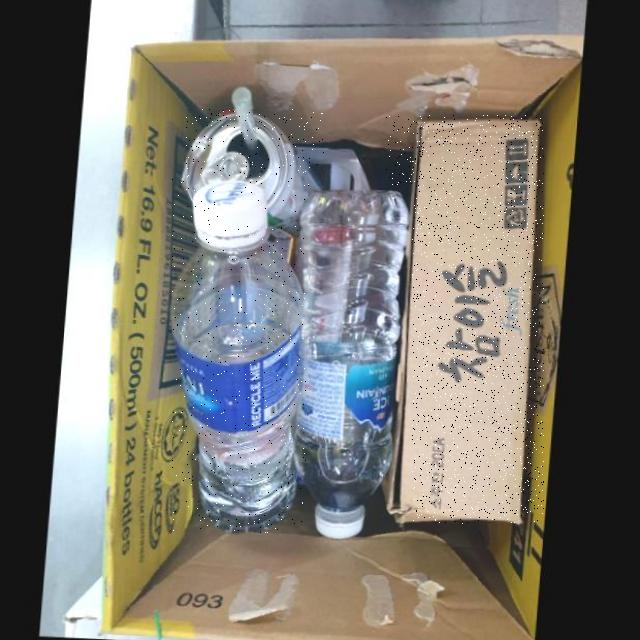metal: (187, 109, 324, 239)
paper: (386, 115, 544, 524)
plastic: (173, 178, 306, 533), (299, 186, 412, 537)
